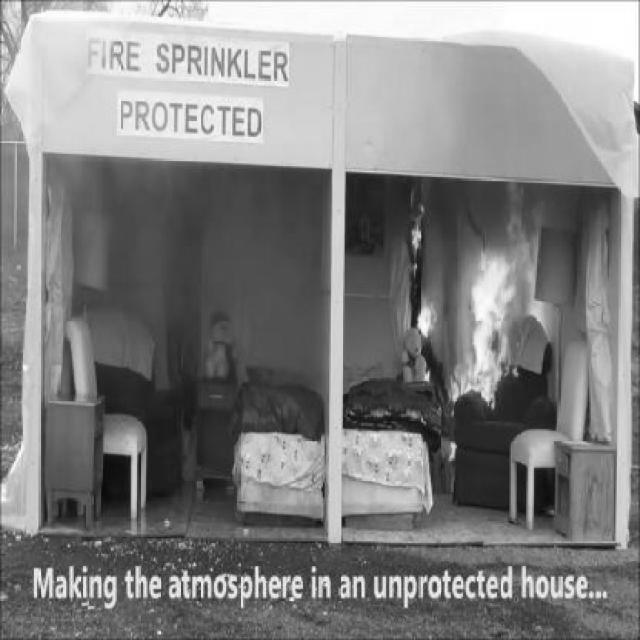smoke: (451, 212, 558, 406), (404, 198, 430, 263), (412, 295, 440, 338)
